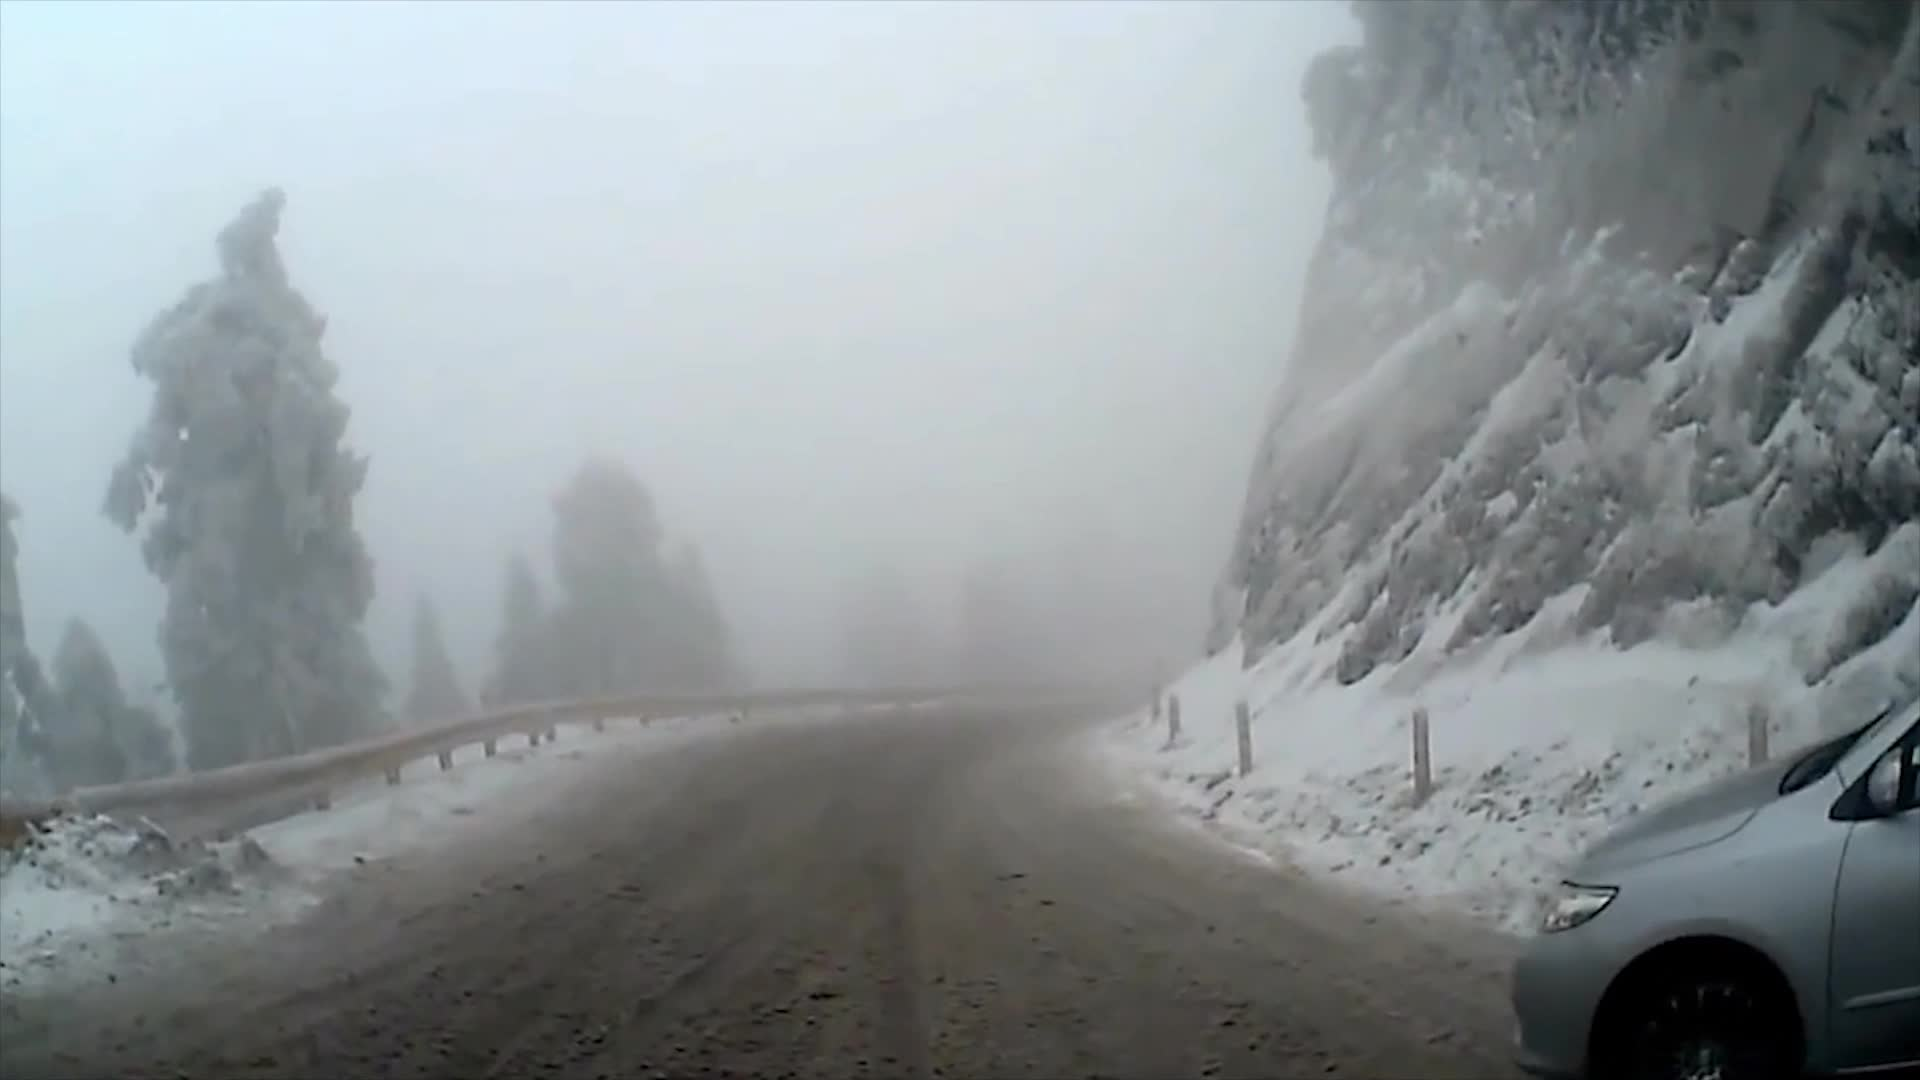vehicle: (1506, 669, 1920, 1080)
